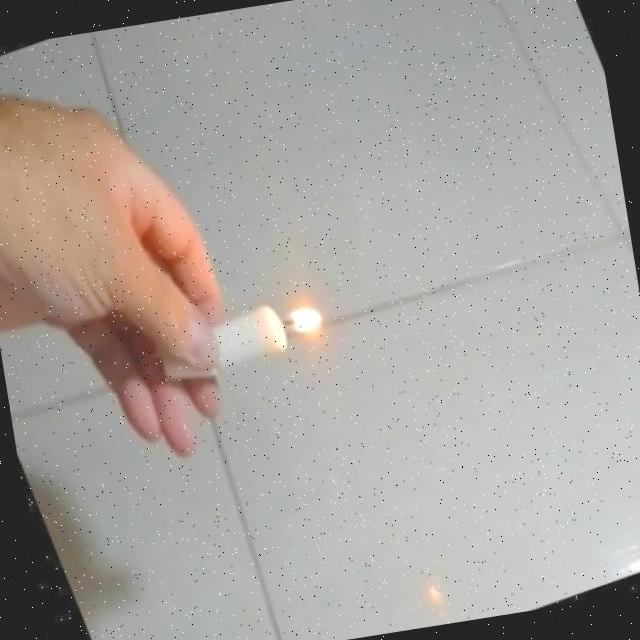fire: (272, 292, 331, 351)
